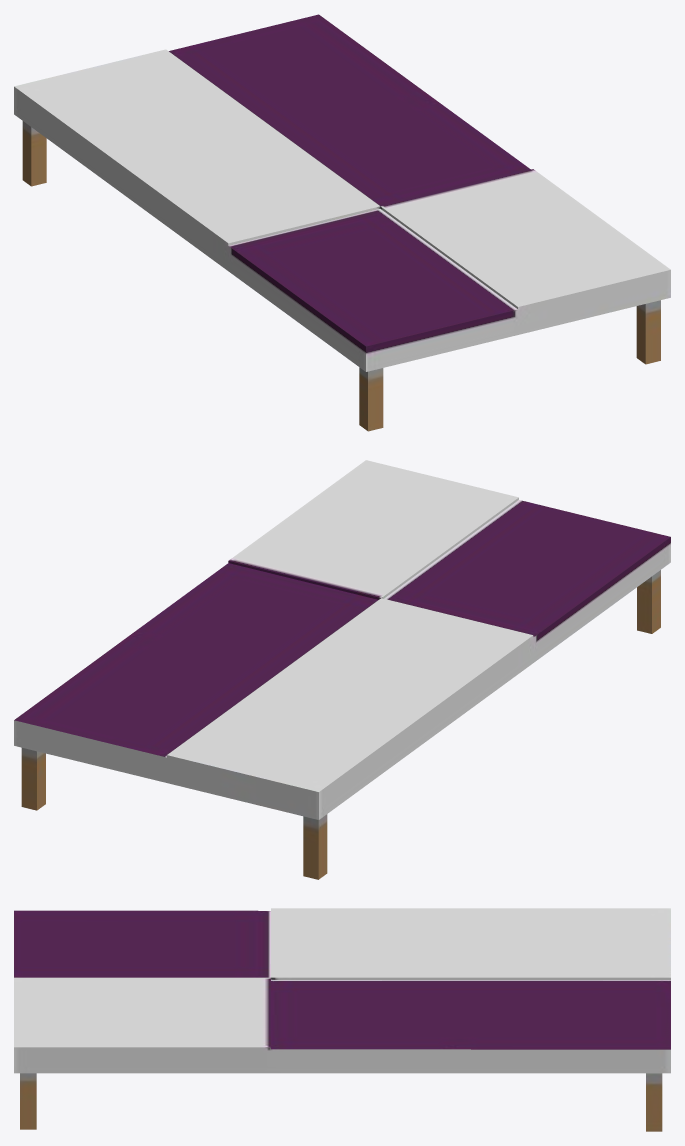
Rendered from tavolo salotto.FBX.
3 views of the same model, one above another, from view 1: azimuth 30°, elevation 25°; view 2: azimuth 150°, elevation 25°; view 3: azimuth 270°, elevation 25° (orthographic). The views are drawn at different scales.
Visible parts, largest first — view 1: tavolino basso; view 2: tavolino basso; view 3: tavolino basso.
Part boxes in pixels (x1,y1,x2,y2): tavolino basso: (14,14,670,431); tavolino basso: (14,460,670,879); tavolino basso: (14,908,670,1131).
Bounding box in the file's own units: 1 × 0.2877 × 2.
